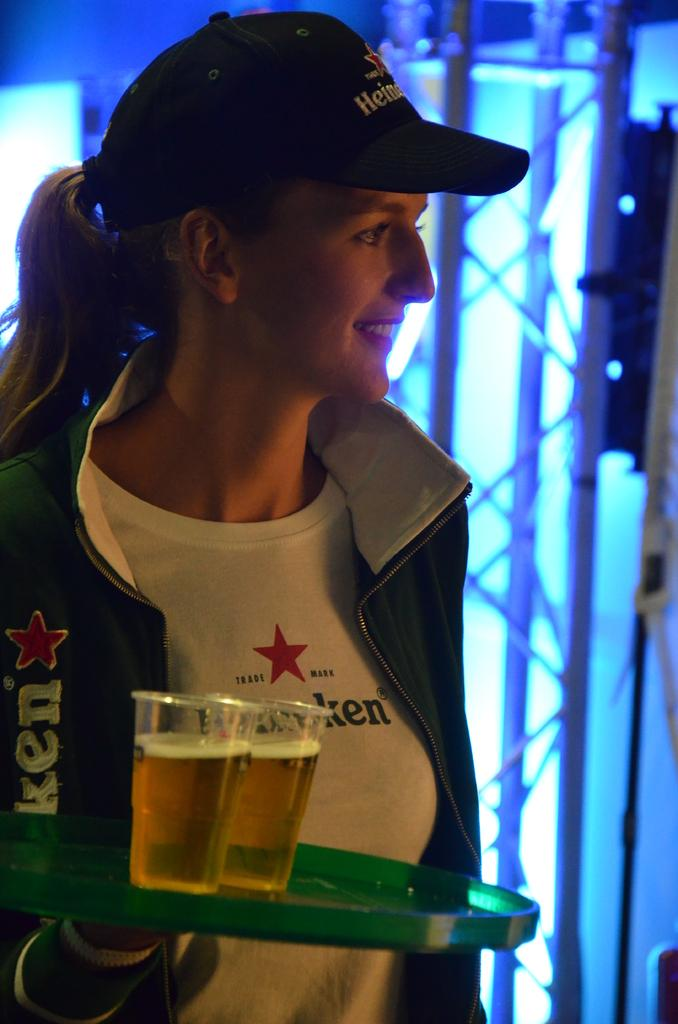Hat: (91, 10, 528, 244)
